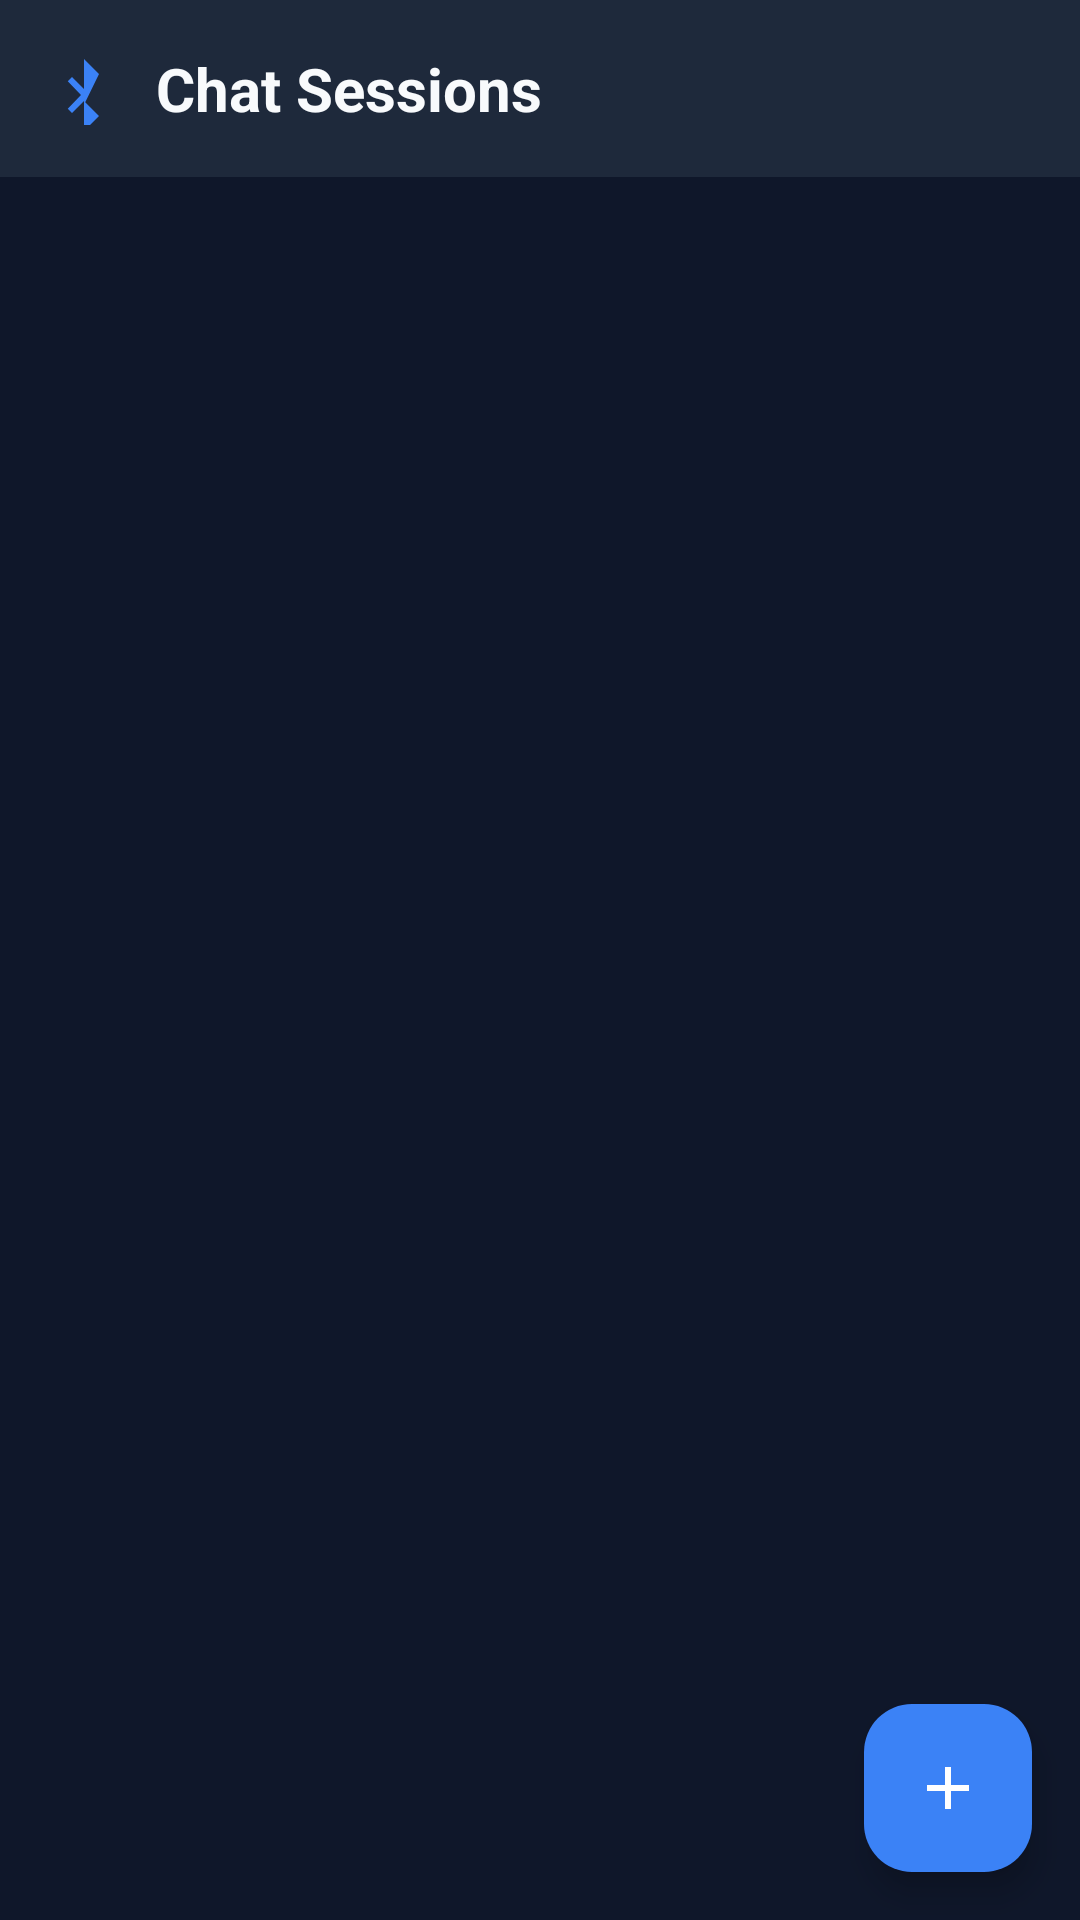

Icon bounding boxes for this 1080w x 1920h phone screenshot, format box(x1, y1, x2, y2):
New Chat: box(864, 1704, 1032, 1872)
